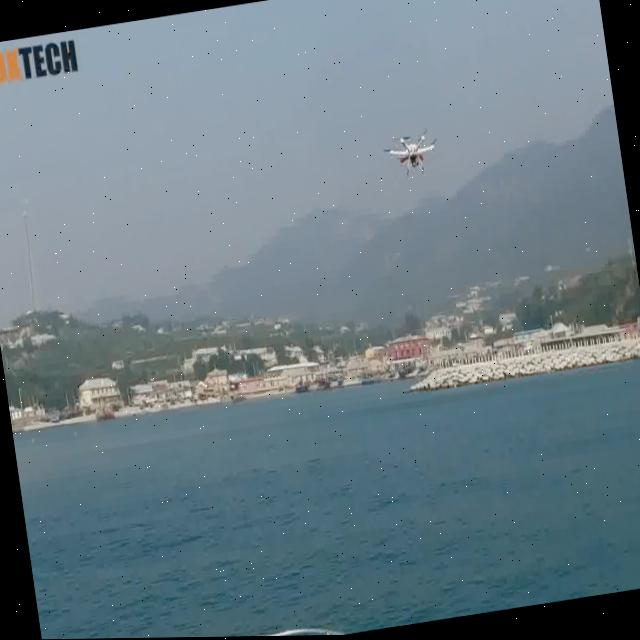drone: (380, 121, 450, 192)
